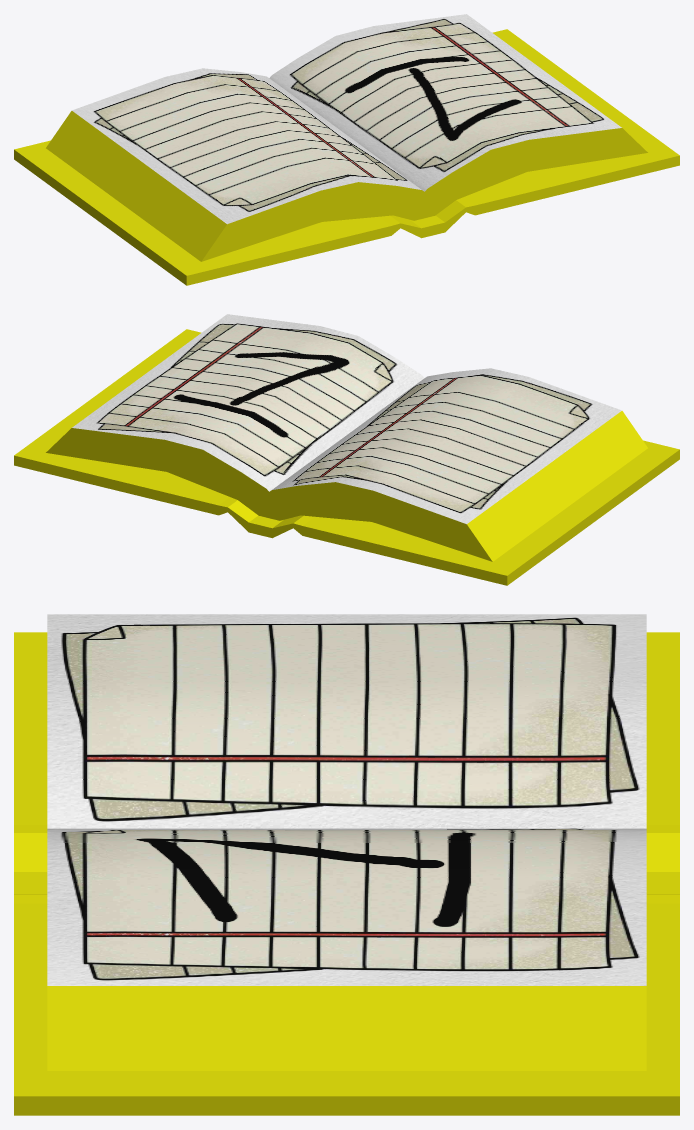
The model's file is book.fbx.
3 views of the same model, one above another, from view 1: azimuth 30°, elevation 25°; view 2: azimuth 150°, elevation 25°; view 3: azimuth 270°, elevation 25° (orthographic). The views are drawn at different scales.
Parts seen in each view (by area): view 1: Book_Open; view 2: Book_Open; view 3: Book_Open.
Boxes of the visible parts, x1,y1,x2,y2 form: Book_Open: [14, 14, 679, 285]; Book_Open: [14, 314, 679, 585]; Book_Open: [14, 614, 679, 1115].
Size of the model in its own units: 63.15 by 7.8 by 38.31.
